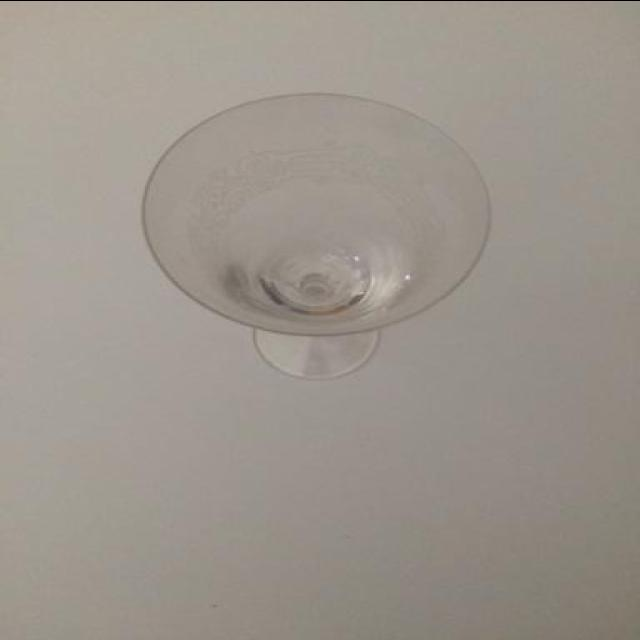glass: (139, 90, 495, 380)
